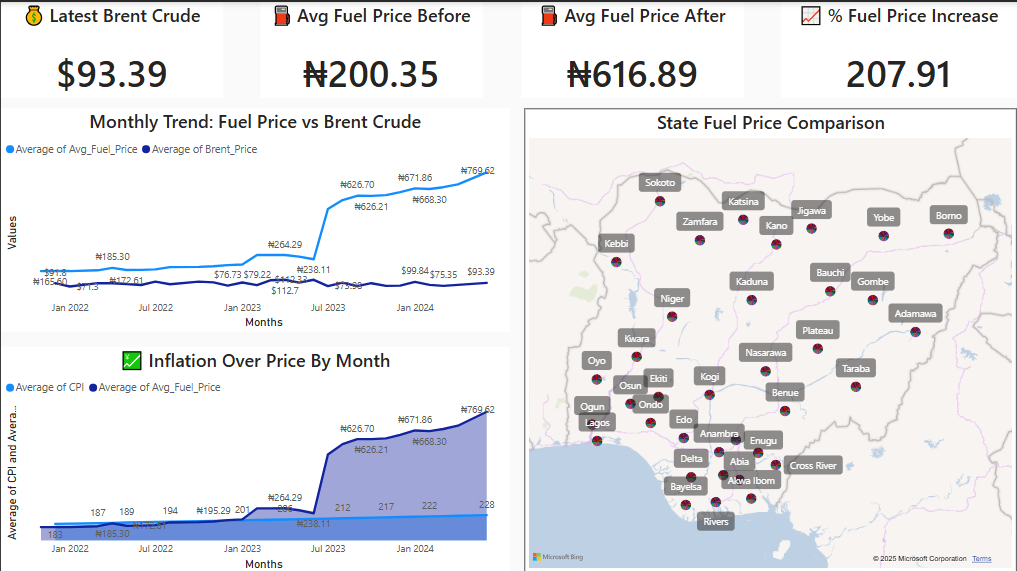

The dashboard page shown, as its layout file describes it:
{"tool":"powerbi","page":{"name":"Page 1","canvas":[1280,720],"ordinal":0},"visuals":[{"type":"cardVisual","title":"⛽ Avg Fuel Price After","fields":{"Data":["fuel_analysis.Avg Fuel Price After"]},"box":[655.1,0,279.7,120.9],"z":0},{"type":"cardVisual","title":"⛽ Avg Fuel Price Before","fields":{"Data":["fuel_analysis.Avg Fuel Price Before"]},"box":[327.6,0,279.7,120.9],"z":1000},{"type":"cardVisual","title":"💰 Latest Brent Crude","fields":{"Data":["fuel_analysis.Latest Brent Price"]},"box":[0,0,279.7,120.9],"z":2000},{"type":"cardVisual","title":"📈 % Fuel Price Increase","fields":{"Data":["fuel_analysis.Fuel Price % Increase"]},"box":[982.7,0,296.7,120.9],"z":3000},{"type":"lineChart","title":"Monthly Trend: Fuel Price vs Brent Crude","fields":{"Category":["fuel_analysis.Month_Parsed Hierarchy.Month_Parsed"],"Y":["Avg(fuel_analysis.Avg_Fuel_Price)","Avg(fuel_analysis.Brent_Price)"]},"box":[0,134.2,640.6,281.6],"z":4000},{"type":"areaChart","title":"💹 Inflation Over Price By Month","fields":{"Category":["fuel_analysis.Month_Parsed Hierarchy.Month_Parsed"],"Y":["Avg(fuel_analysis.CPI)","Avg(fuel_analysis.Avg_Fuel_Price)"]},"box":[0,434.6,640.6,285.4],"z":5000},{"type":"map","title":" State Fuel Price Comparison","fields":{"Category":["fuel_analysis.State"],"Series":["fuel_analysis.Avg_Fuel_Price"]},"box":[659.5,134.2,619.8,585.8],"z":6000}]}

Visuals, with their boxes in screenshot pixels (x1, y1, x2, y2), scaled from the page's 1280x720 canvas onto the 1017x571 screenshot:
"⛽ Avg Fuel Price After" cardVisual: select_region(520, 0, 743, 96)
"⛽ Avg Fuel Price Before" cardVisual: select_region(260, 0, 483, 96)
"💰 Latest Brent Crude" cardVisual: select_region(0, 0, 222, 96)
"📈 % Fuel Price Increase" cardVisual: select_region(781, 0, 1016, 96)
"Monthly Trend: Fuel Price vs Brent Crude" lineChart: select_region(0, 106, 509, 330)
"💹 Inflation Over Price By Month" areaChart: select_region(0, 345, 509, 570)
" State Fuel Price Comparison" map: select_region(524, 106, 1016, 570)
